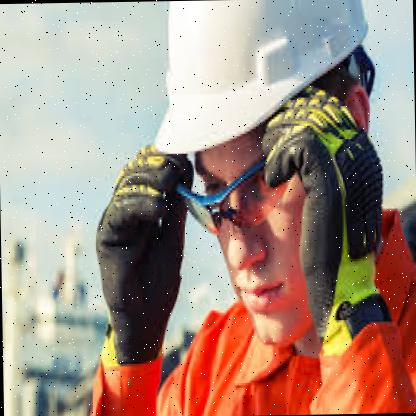capacete: (145, 0, 383, 169)
oculos: (178, 152, 280, 238)
